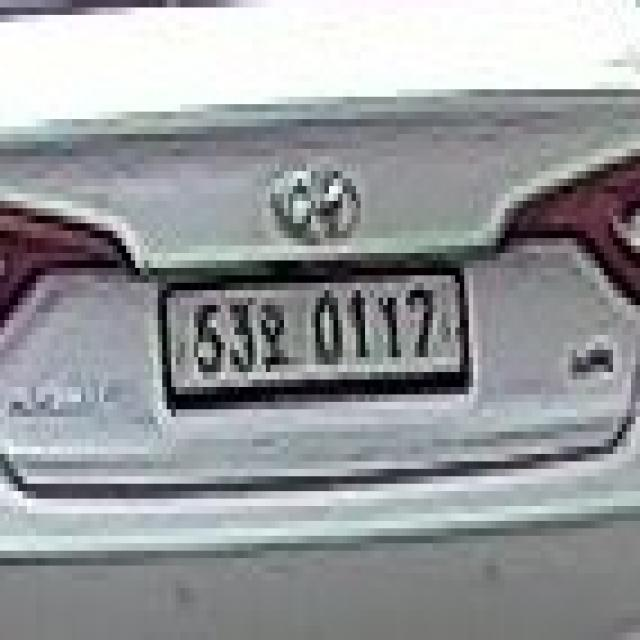0: (307, 275, 347, 365)
1: (374, 276, 401, 380), (352, 275, 369, 372)
3: (225, 283, 252, 387)
5: (185, 298, 225, 380)
7: (406, 275, 442, 387)
ho: (252, 290, 288, 372)
license_plate: (153, 238, 473, 409)
